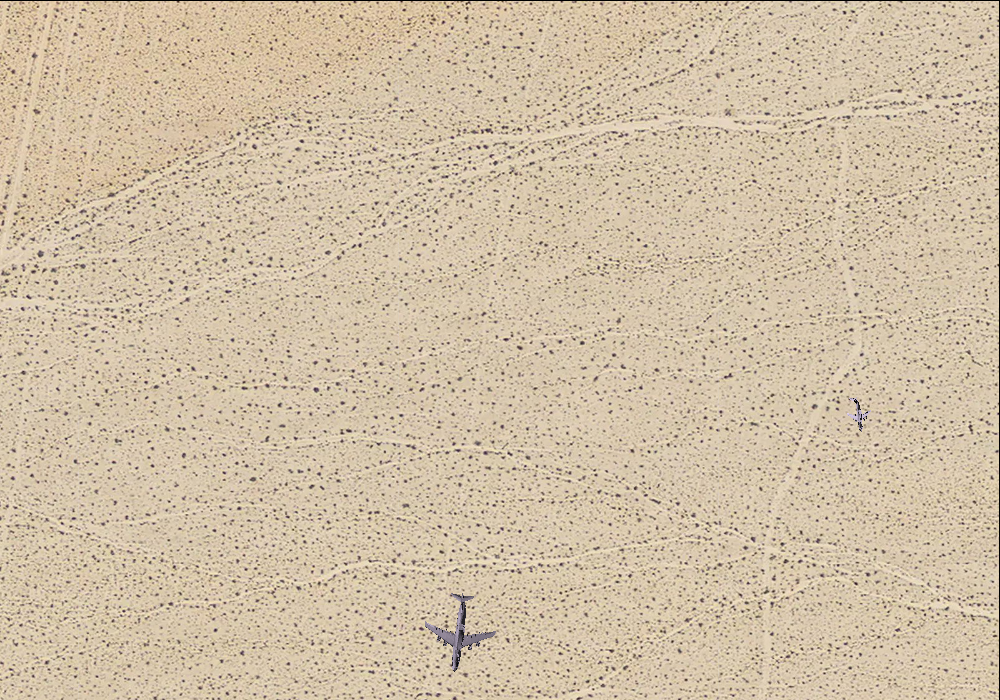plane: (416, 588, 501, 677), (840, 394, 874, 433)
